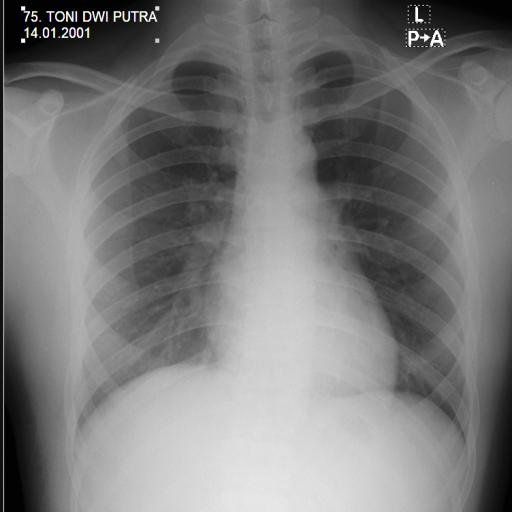normal: (46, 24, 482, 460)
